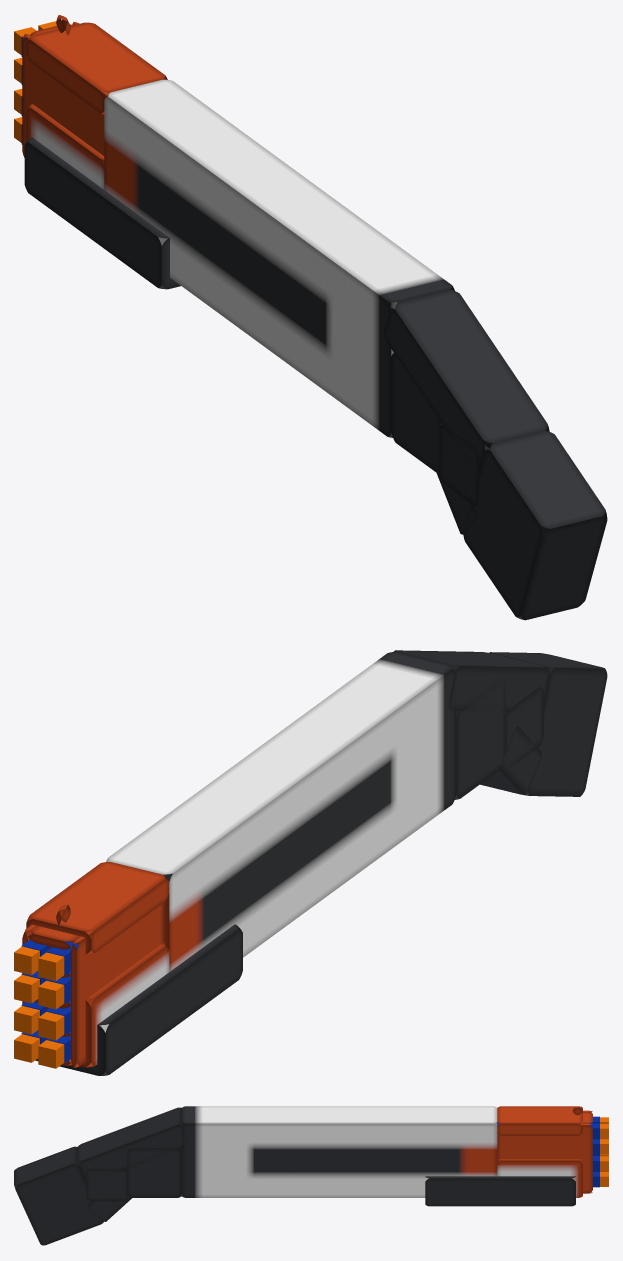
File: roughcut.obj
The picture shows the model from 3 angles, top to bottom: view 1: azimuth 30°, elevation 25°; view 2: azimuth 150°, elevation 25°; view 3: azimuth 270°, elevation 25°; orthographic projection. The views are drawn at different scales.
Visible parts, largest first — view 1: roughcut; view 2: roughcut; view 3: roughcut.
Part boxes in pixels (x1,y1,x2,y2): roughcut: (14, 15, 607, 620); roughcut: (14, 650, 607, 1075); roughcut: (14, 1106, 608, 1245).
Bounding box in the file's own units: 0.075 × 0.2109 × 0.868.
2 materials, 2 textured.
